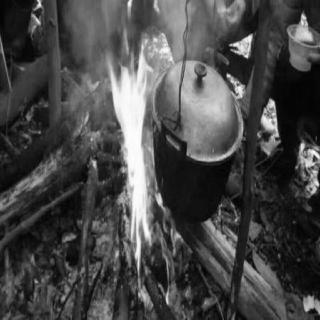Fire: (100, 31, 188, 317)
